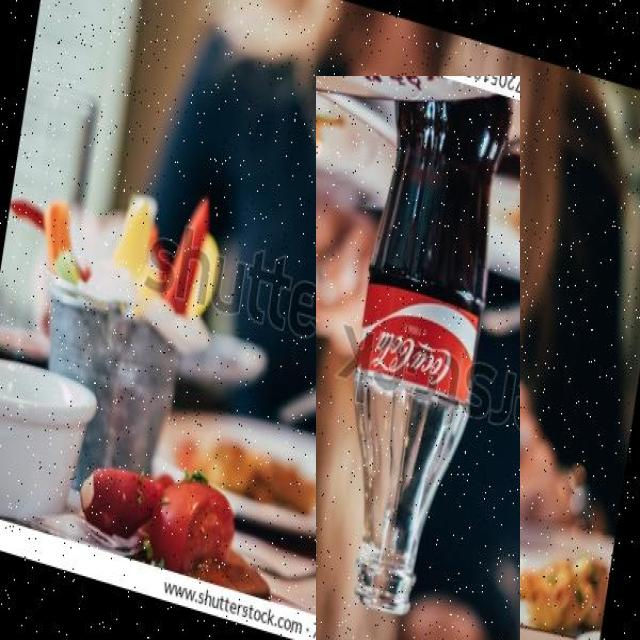coca-cola: (316, 76, 520, 640)
